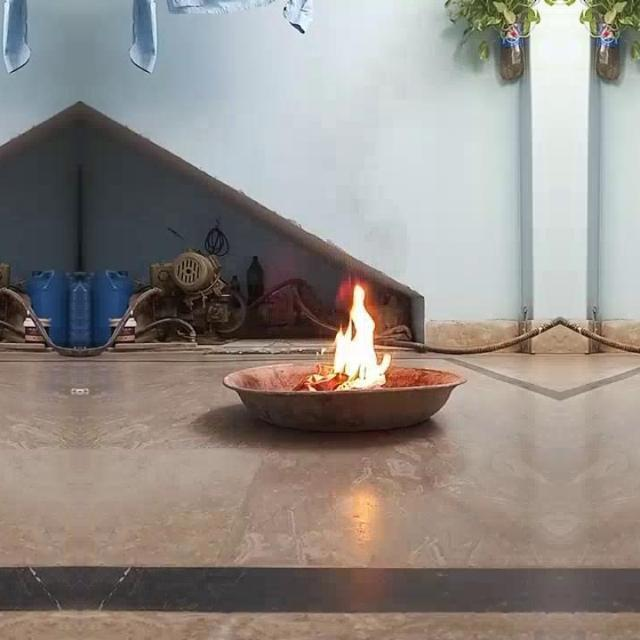smoke: (306, 279, 392, 387)
